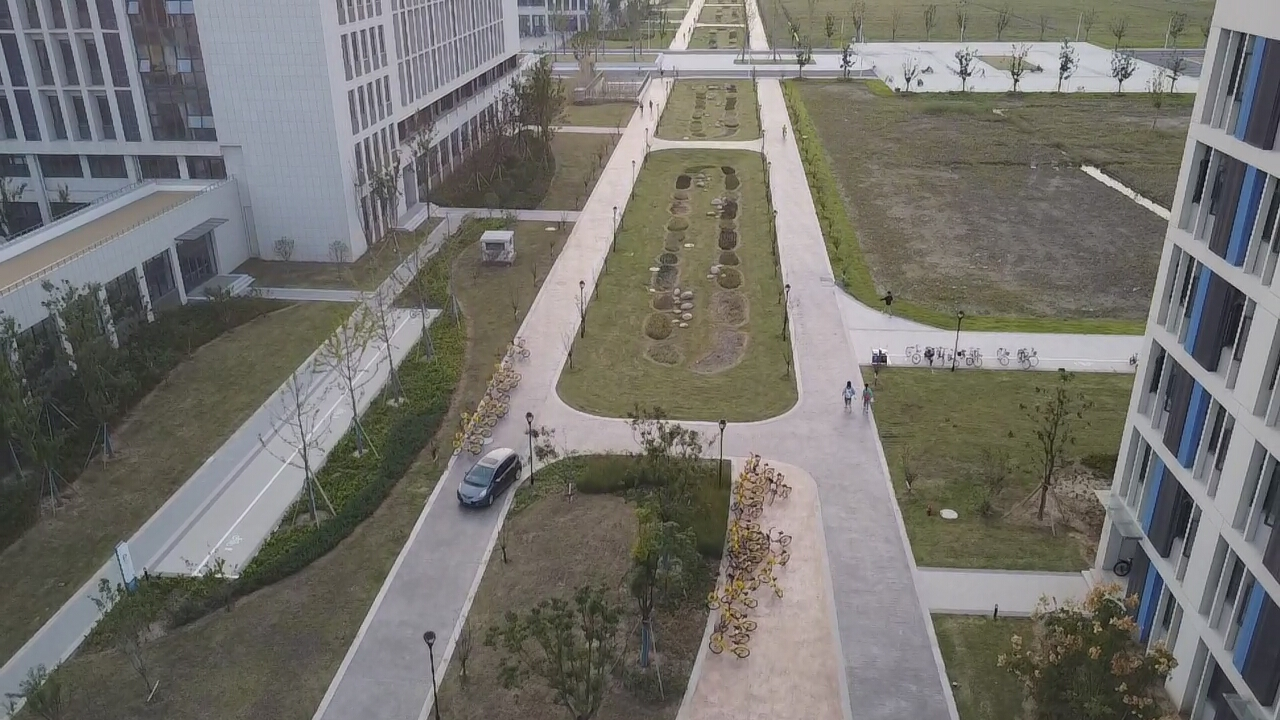car: (455, 445, 524, 506)
person: (881, 286, 898, 320), (840, 382, 857, 409), (863, 379, 875, 411), (636, 98, 648, 118), (647, 98, 654, 112), (781, 124, 787, 137)
